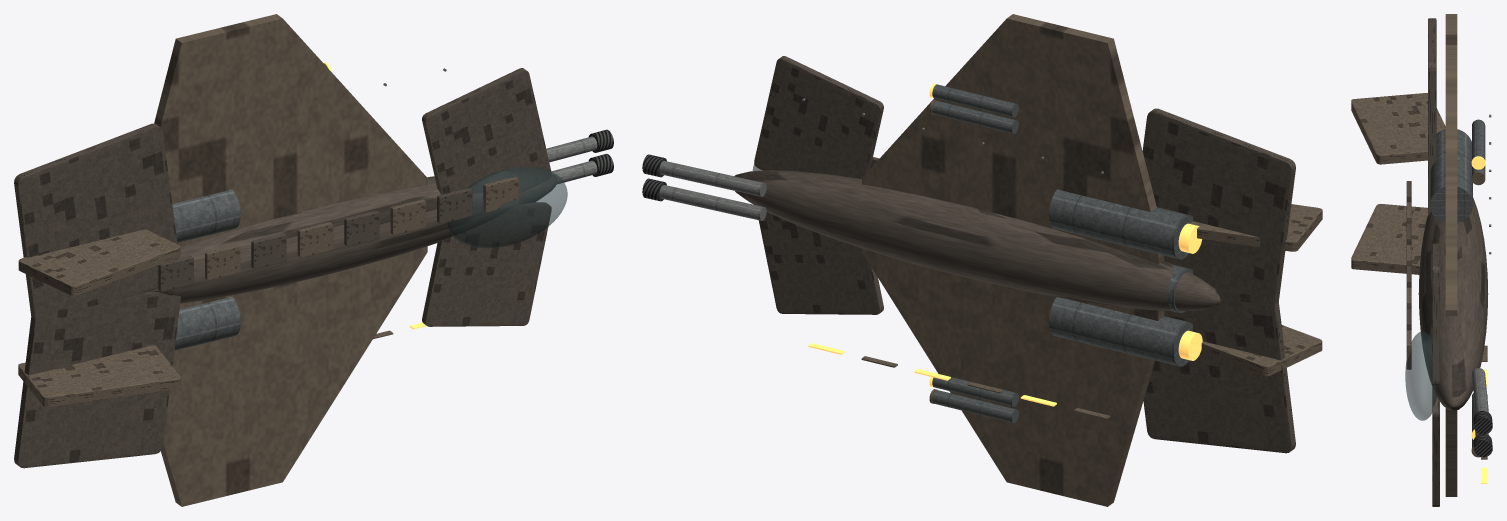
The model's file is d-u25-dominion-multirole-aircraft-lod0.glb.
The picture shows the model from 3 angles, left to right: view 1: azimuth 30°, elevation 25°; view 2: azimuth 150°, elevation 25°; view 3: azimuth 270°, elevation 25°; orthographic projection. The views are drawn at different scales.
Visible parts, largest first — view 1: combat_main_wing, combat_tailplane_-1, combat_tailplane_1, combat_fuselage, canard_-1, canard_1, combat_fin_-1, combat_fin_1, combat_canopy, combat_engine_2, combat_engine_0, airframe_panel_3 (+8 smaller); view 2: combat_main_wing, combat_fuselage, combat_tailplane_1, combat_tailplane_-1, canard_1, canard_-1, combat_engine_2, combat_engine_0, combat_fin_-1, combat_fin_1, combat_gun_barrel_1, combat_gun_barrel_0 (+4 smaller); view 3: combat_fuselage, combat_main_wing, combat_fin_1, combat_fin_-1, combat_engine_2, combat_canopy, combat_tailplane_1, canard_1, canard_-1, combat_gun_barrel_1, combat_1_tube_2, combat_gun_muzzle_1 (+2 smaller).
Part boxes in pixels (bbox=[...]): combat_main_wing: bbox=[154, 14, 427, 506]; combat_tailplane_-1: bbox=[14, 292, 180, 468]; combat_tailplane_1: bbox=[14, 123, 179, 319]; combat_fuselage: bbox=[147, 174, 556, 303]; canard_-1: bbox=[422, 202, 551, 326]; canard_1: bbox=[422, 68, 551, 194]; combat_fin_-1: bbox=[18, 345, 180, 406]; combat_fin_1: bbox=[18, 229, 180, 295]; combat_canopy: bbox=[447, 167, 567, 248]; combat_engine_2: bbox=[172, 189, 240, 242]; combat_engine_0: bbox=[174, 296, 240, 350]; airframe_panel_3: bbox=[297, 222, 333, 257]; combat_main_wing: bbox=[862, 14, 1164, 506]; combat_fuselage: bbox=[734, 170, 1220, 311]; combat_tailplane_1: bbox=[1142, 108, 1295, 309]; combat_tailplane_-1: bbox=[1143, 291, 1295, 453]; canard_1: bbox=[754, 56, 883, 178]; canard_-1: bbox=[758, 212, 883, 314]; combat_engine_2: bbox=[1048, 189, 1192, 259]; combat_engine_0: bbox=[1048, 297, 1192, 366]; combat_fin_-1: bbox=[1201, 325, 1322, 376]; combat_fin_1: bbox=[1190, 204, 1322, 251]; combat_gun_barrel_1: bbox=[659, 160, 766, 196]; combat_gun_barrel_0: bbox=[659, 185, 766, 220]; combat_fuselage: bbox=[1418, 197, 1488, 410]; combat_main_wing: bbox=[1445, 14, 1457, 496]; combat_fin_1: bbox=[1351, 93, 1445, 164]; combat_fin_-1: bbox=[1351, 204, 1427, 274]; combat_engine_2: bbox=[1430, 129, 1472, 223]; combat_canopy: bbox=[1405, 331, 1436, 420]; combat_tailplane_1: bbox=[1428, 18, 1436, 215]; canard_1: bbox=[1432, 243, 1439, 385]; canard_-1: bbox=[1432, 387, 1439, 506]; combat_gun_barrel_1: bbox=[1472, 368, 1488, 413]; combat_1_tube_2: bbox=[1472, 119, 1485, 160]; combat_gun_muzzle_1: bbox=[1473, 410, 1492, 434].
Size of what is drawn, in the model's own units: 14.93 by 10.66 by 3.14.
Materials: 7 (7 with a texture image).
